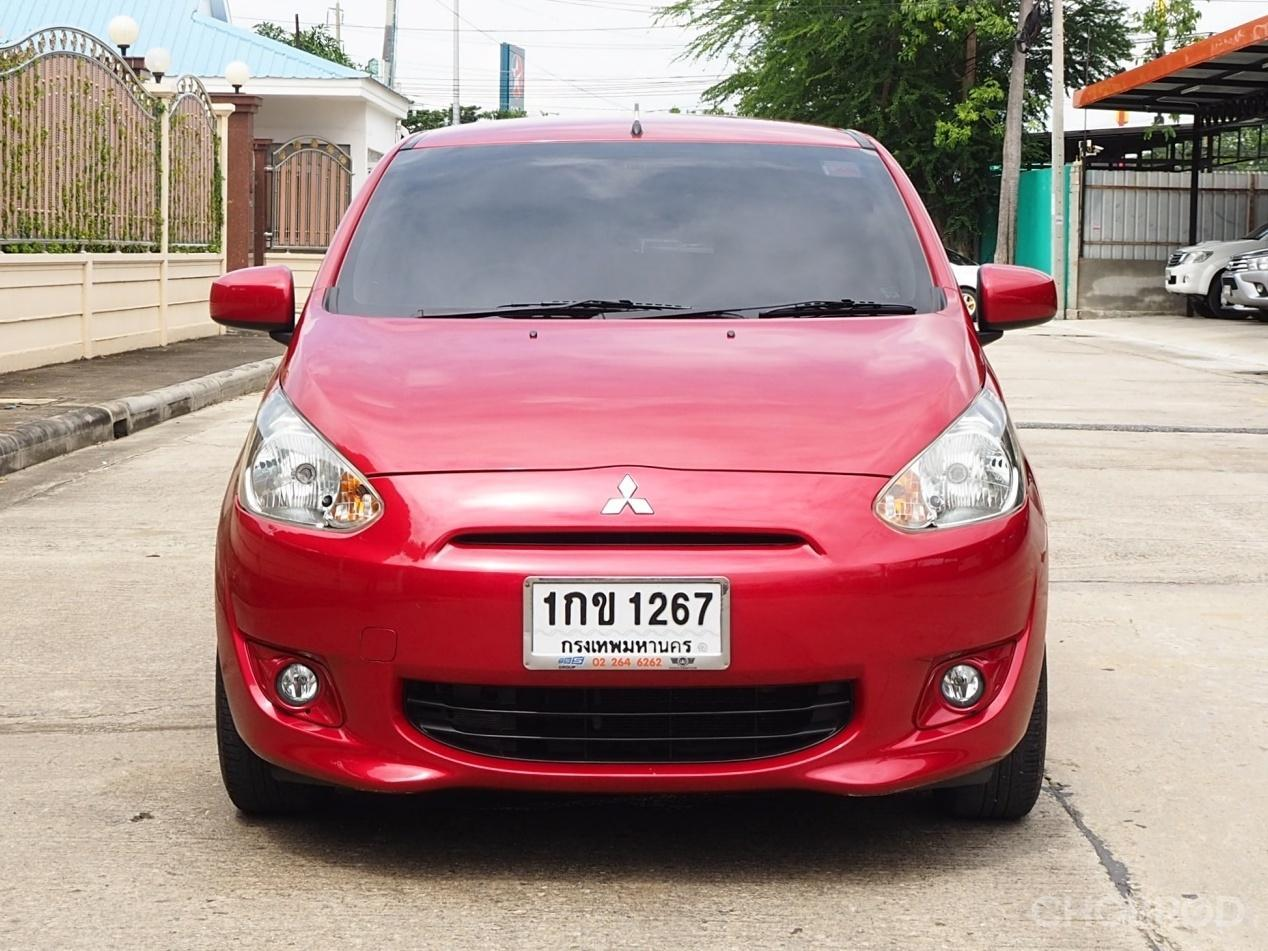license-plate: (519, 569, 735, 680)
